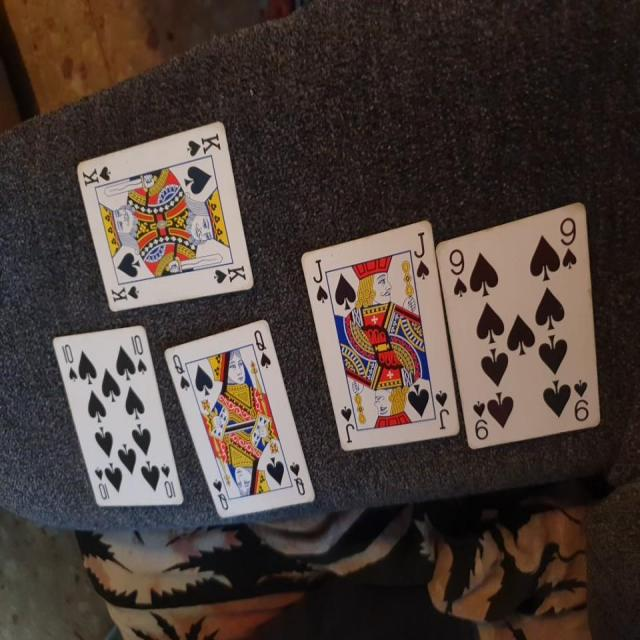10 Spades: (41, 322, 188, 517)
9 Spades: (436, 188, 608, 454)
J Spades: (296, 220, 465, 467)
K Spades: (72, 122, 263, 312)
Q Spades: (164, 311, 318, 524)
